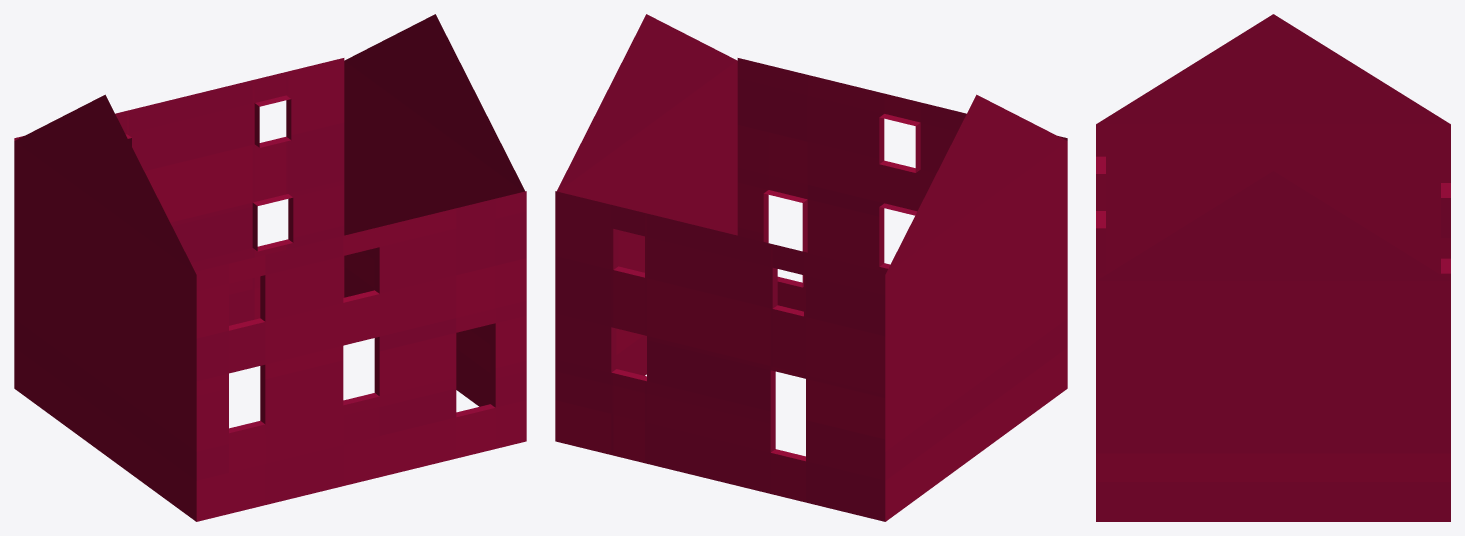
The model's file is SM_Bld_079_Masonry.glb.
The picture shows the model from 3 angles, left to right: view 1: azimuth 30°, elevation 25°; view 2: azimuth 150°, elevation 25°; view 3: azimuth 270°, elevation 25°; orthographic projection. The views are drawn at different scales.
Parts seen in each view (by area): view 1: SM_Bld_079_Masonry; view 2: SM_Bld_079_Masonry; view 3: SM_Bld_079_Masonry.
Boxes of the visible parts, bbox=[...] form: SM_Bld_079_Masonry: bbox=[14, 14, 526, 521]; SM_Bld_079_Masonry: bbox=[555, 14, 1067, 521]; SM_Bld_079_Masonry: bbox=[1096, 14, 1450, 521].
Bounding box in the file's own units: 8.38 × 8.75 × 8.01.
